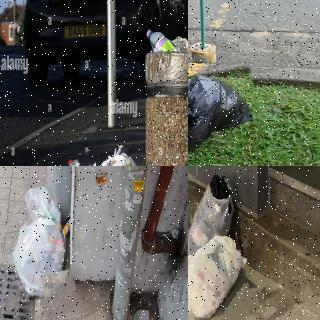Garbage: (188, 64, 262, 156), (188, 229, 250, 320), (7, 215, 72, 301), (188, 175, 235, 254), (25, 184, 64, 226), (96, 147, 146, 166), (52, 151, 106, 166)
